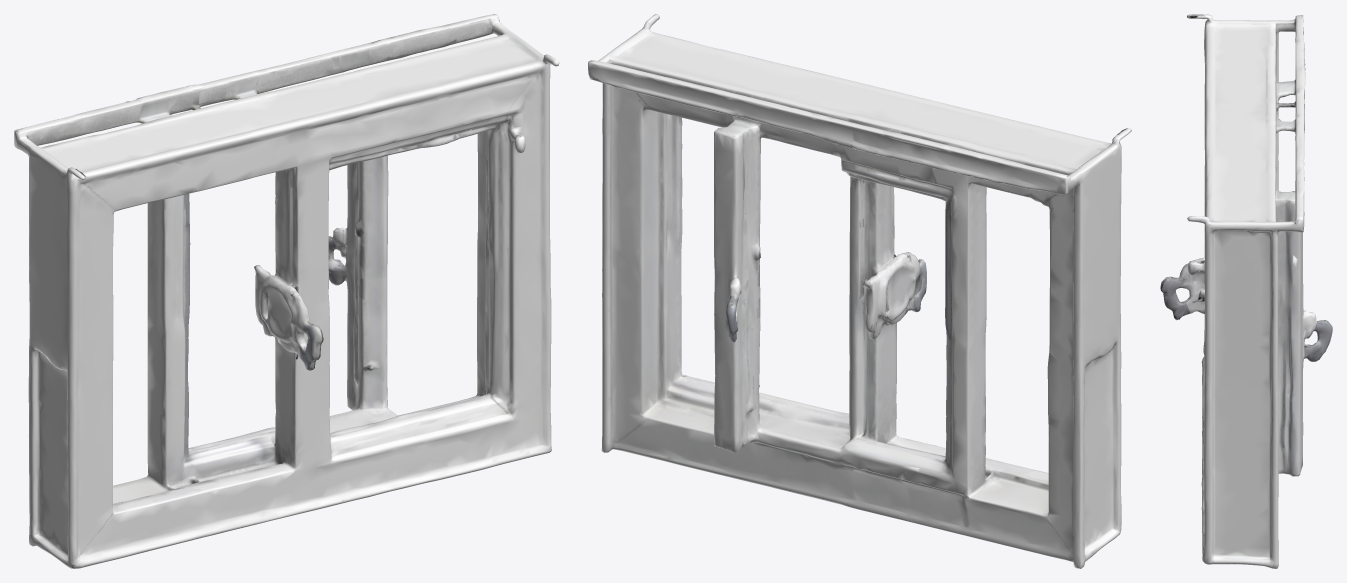
3 renders of one model, left to right at view 1: azimuth 30°, elevation 25°; view 2: azimuth 150°, elevation 25°; view 3: azimuth 270°, elevation 25°, orthographic. The views are drawn at different scales.
Size of the model in its own units: 2.01 by 1.61 by 0.7137.
Materials: 1 (1 with a texture image).
